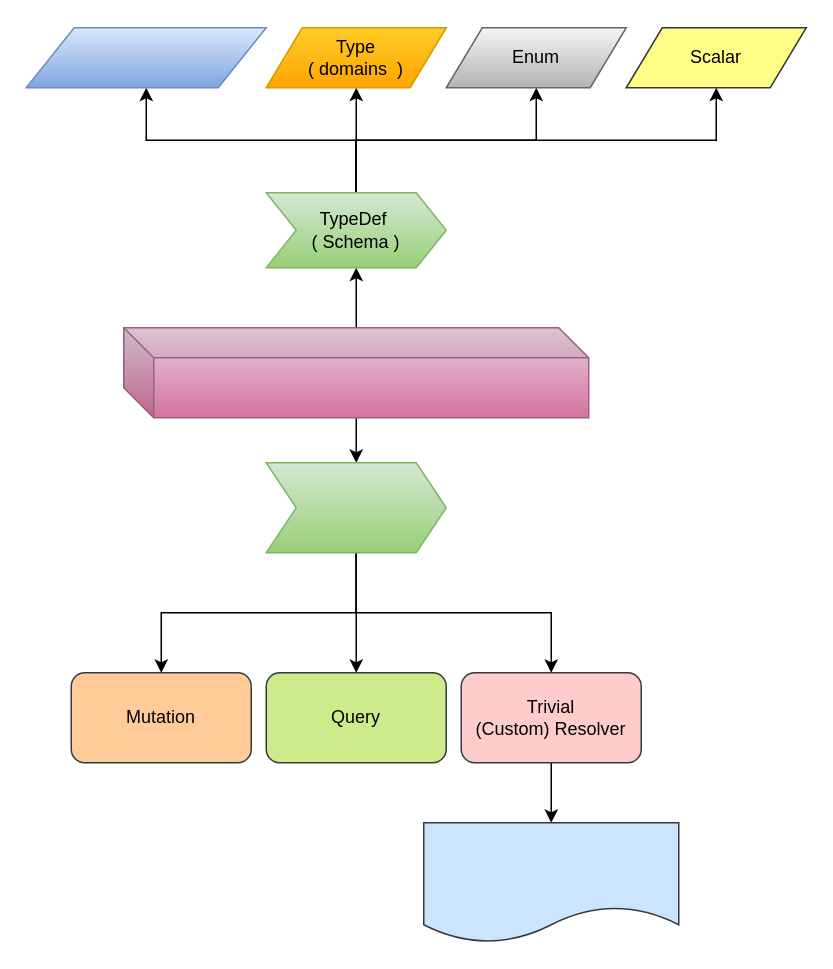
This 833x969 diagram has some shape labels left out. The shapes that lost their labels are listed below. From the top down, each one's centre as x and y in pixels, then its label:
At [145,57]: "Input ( comes from request mapping )".
At [355,372]: "GraphQL Service".
At [355,507]: "Resolver".
At [550,882]: "Usually, it is defined for fields of Type".
